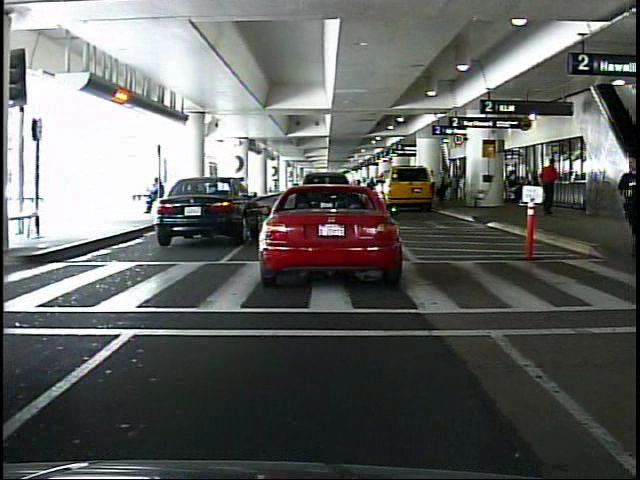person: (614, 157, 640, 261), (541, 159, 558, 216), (425, 166, 439, 203)
